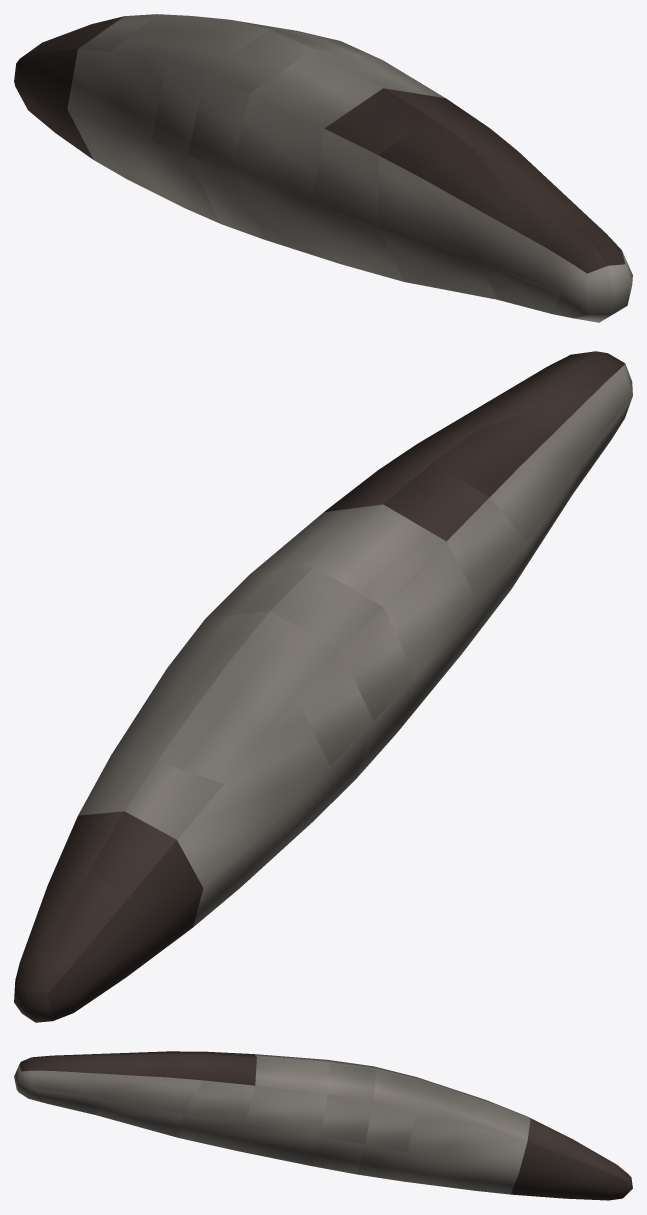
The model's file is SM_Wolf_Tail.fbx.
3 views of the same model, one above another, from view 1: azimuth 30°, elevation 25°; view 2: azimuth 150°, elevation 25°; view 3: azimuth 270°, elevation 25° (orthographic). The views are drawn at different scales.
Visible parts, largest first — view 1: SM_Wolf_Tail; view 2: SM_Wolf_Tail; view 3: SM_Wolf_Tail.
Part boxes in pixels (x1,y1,x2,y2): SM_Wolf_Tail: (14,14,632,322); SM_Wolf_Tail: (14,351,632,1022); SM_Wolf_Tail: (14,1051,632,1200).
Size of the model in its own units: 0.5267 by 0.742 by 2.87.
Materials: 1 (1 with a texture image).
